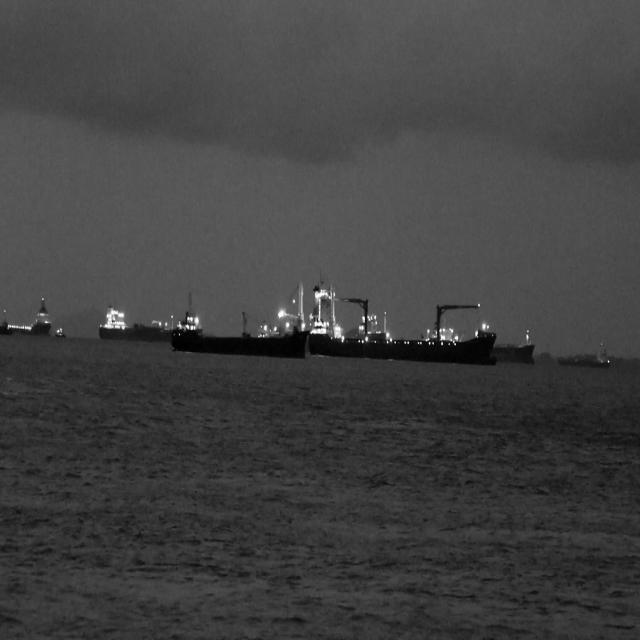ship: (306, 280, 496, 364), (170, 278, 307, 356), (97, 300, 170, 340), (1, 292, 51, 336), (557, 337, 613, 367), (492, 325, 534, 364), (53, 324, 68, 341)
